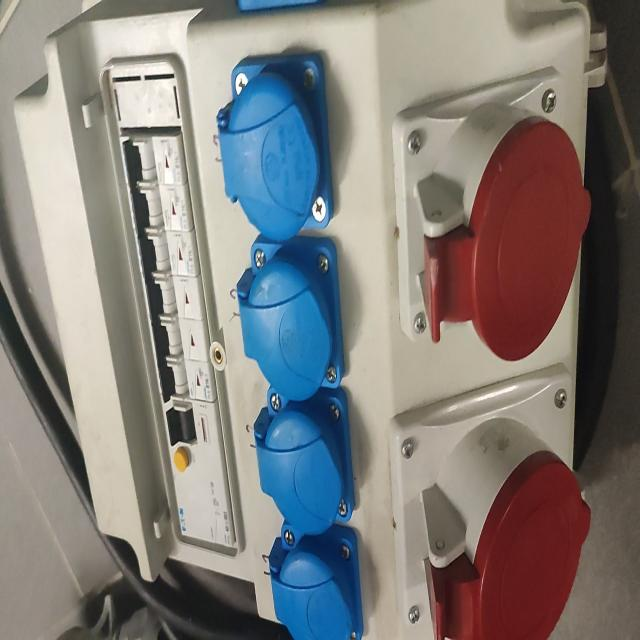400v socket: (388, 66, 590, 360), (390, 361, 590, 640)
house plug covered: (217, 58, 335, 240), (235, 234, 345, 402), (252, 387, 355, 533), (269, 515, 366, 640)
